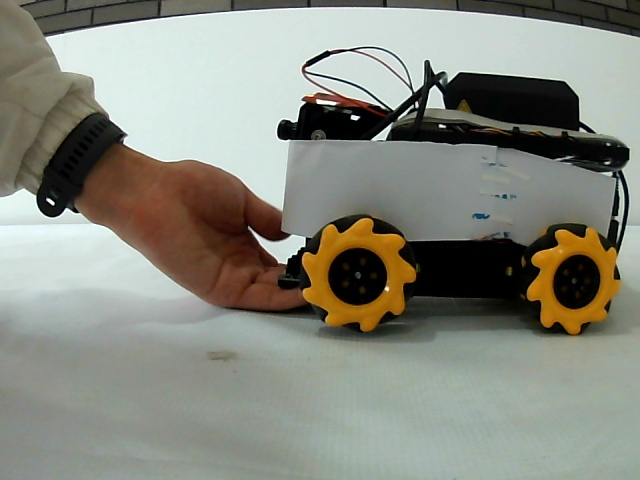car: (271, 63, 629, 336)
paper: (287, 142, 609, 224)
